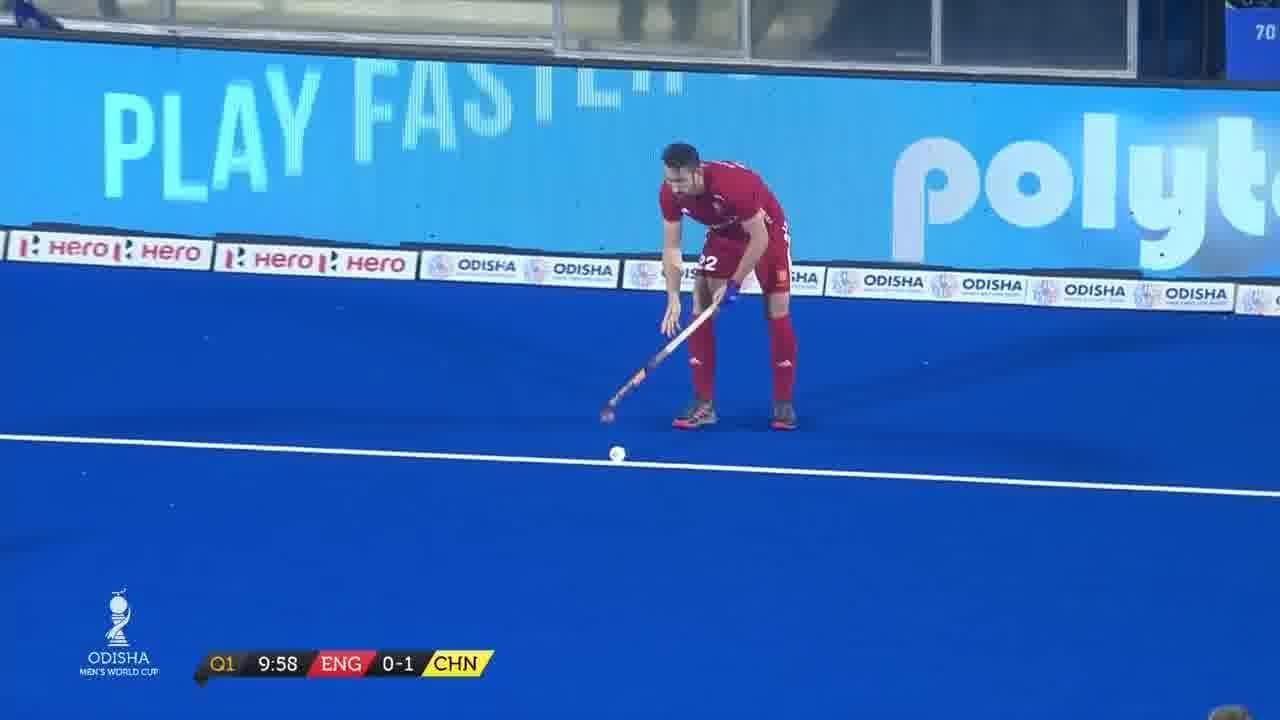ball: (610, 440, 631, 466)
